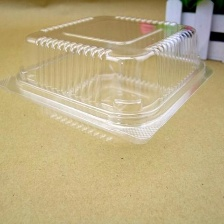plastic_box: (0, 6, 218, 154)
